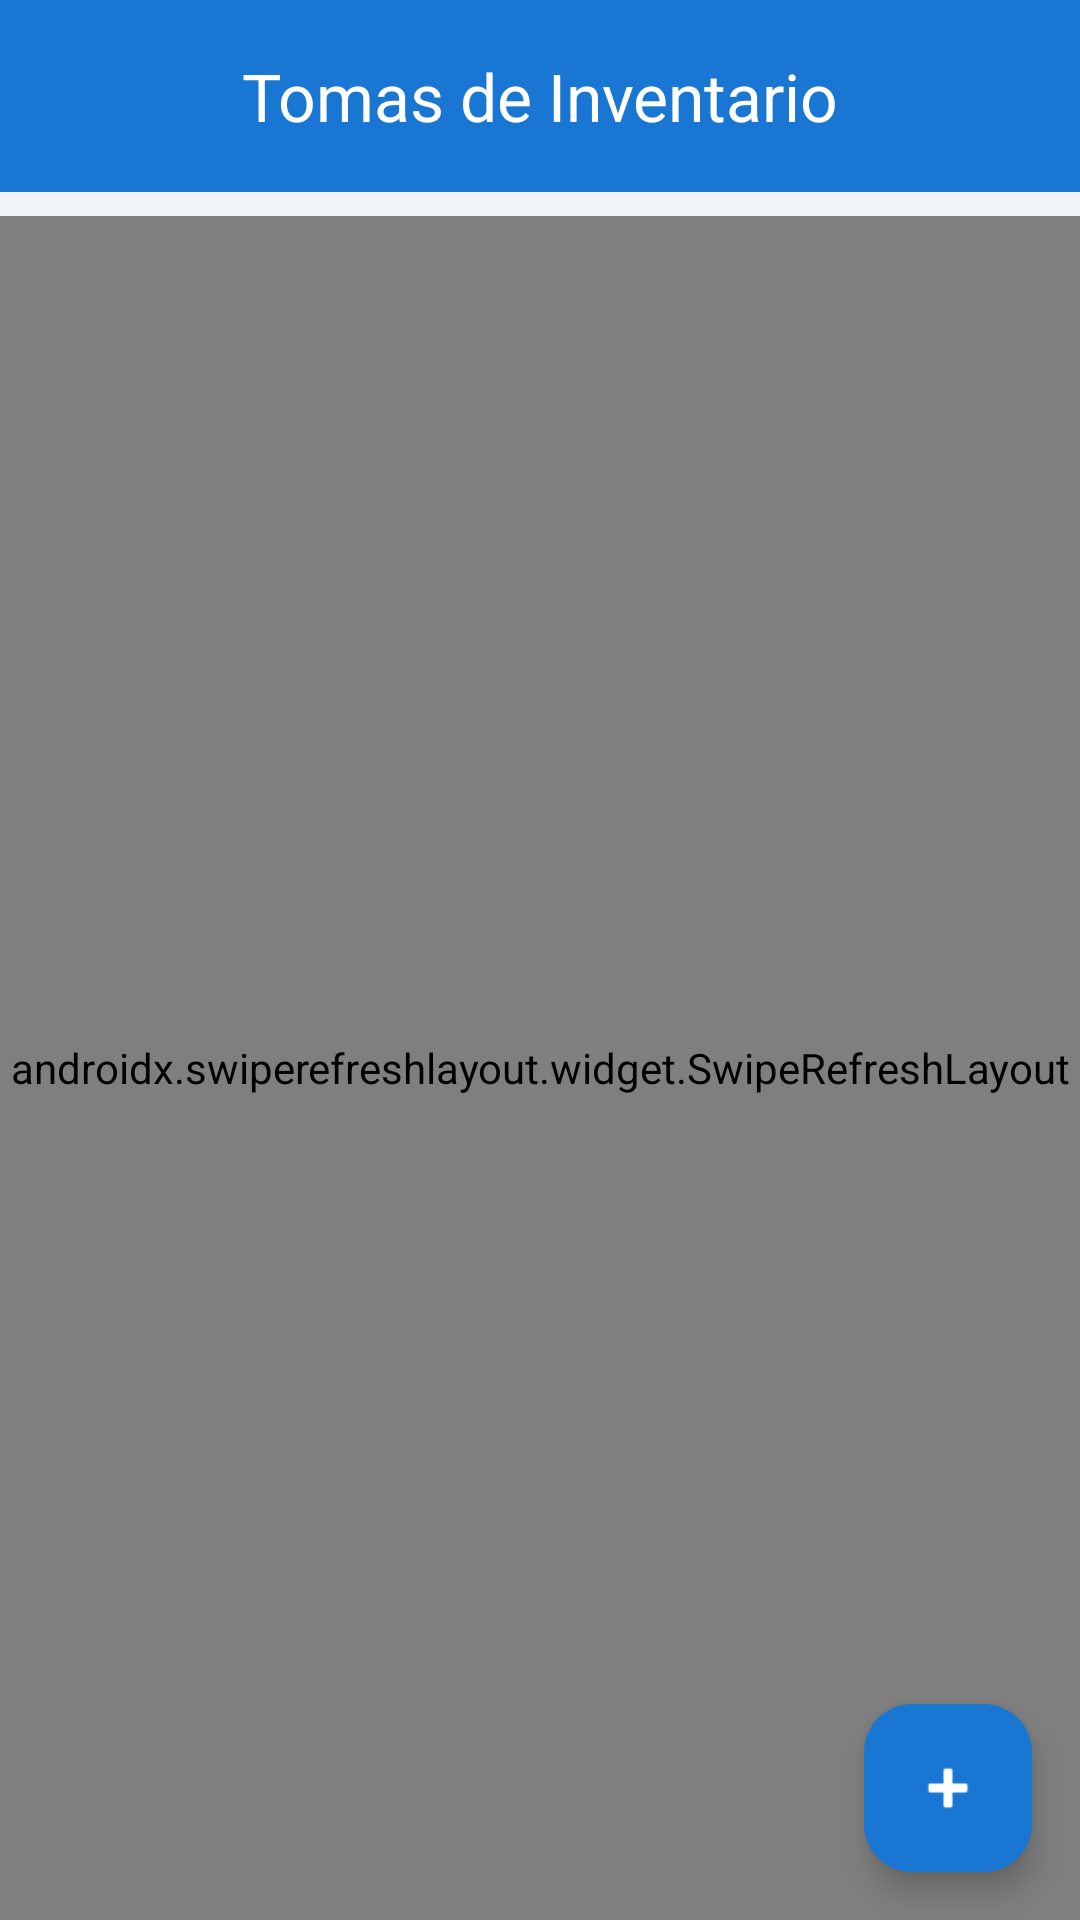

Screen size 1080w x 1920h. Icon name, then its box in pixels as (x1, y1, x2, y2):
Agregar Toma: (864, 1704, 1032, 1872)
